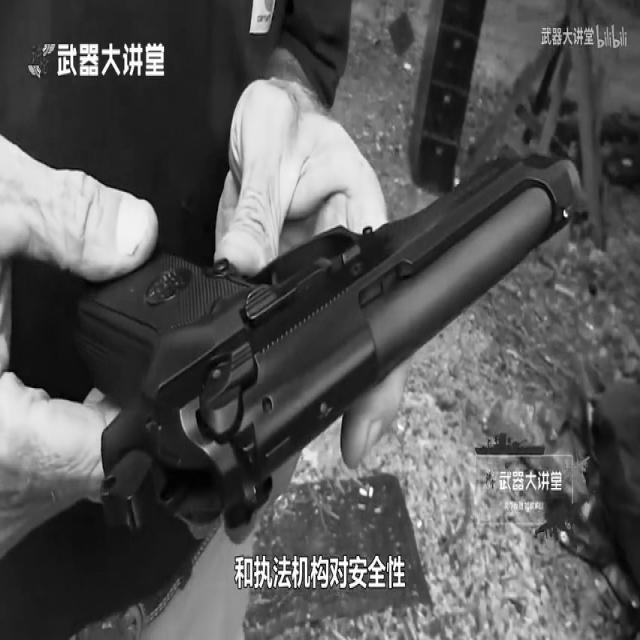Hand-Gun: (67, 68, 598, 539)
